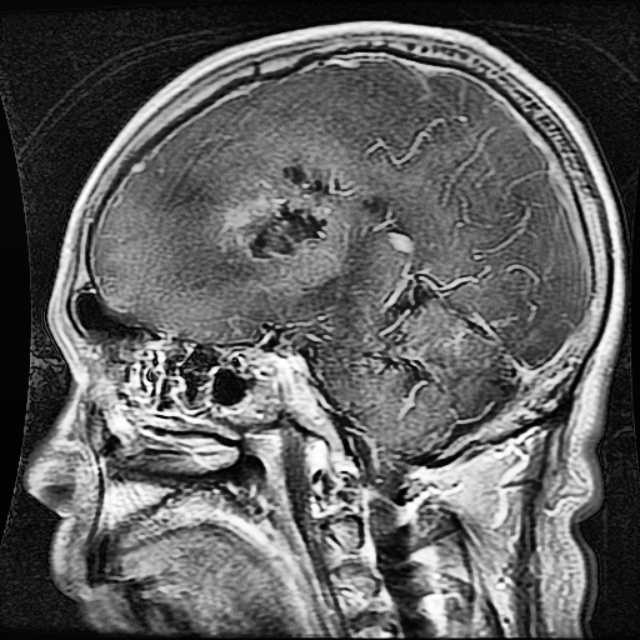Meningioma: (237, 167, 357, 265)
